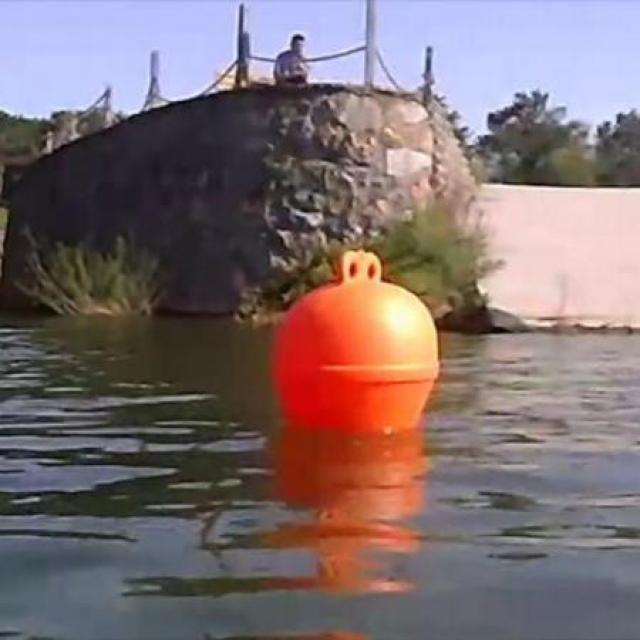buoy: (268, 248, 442, 428)
